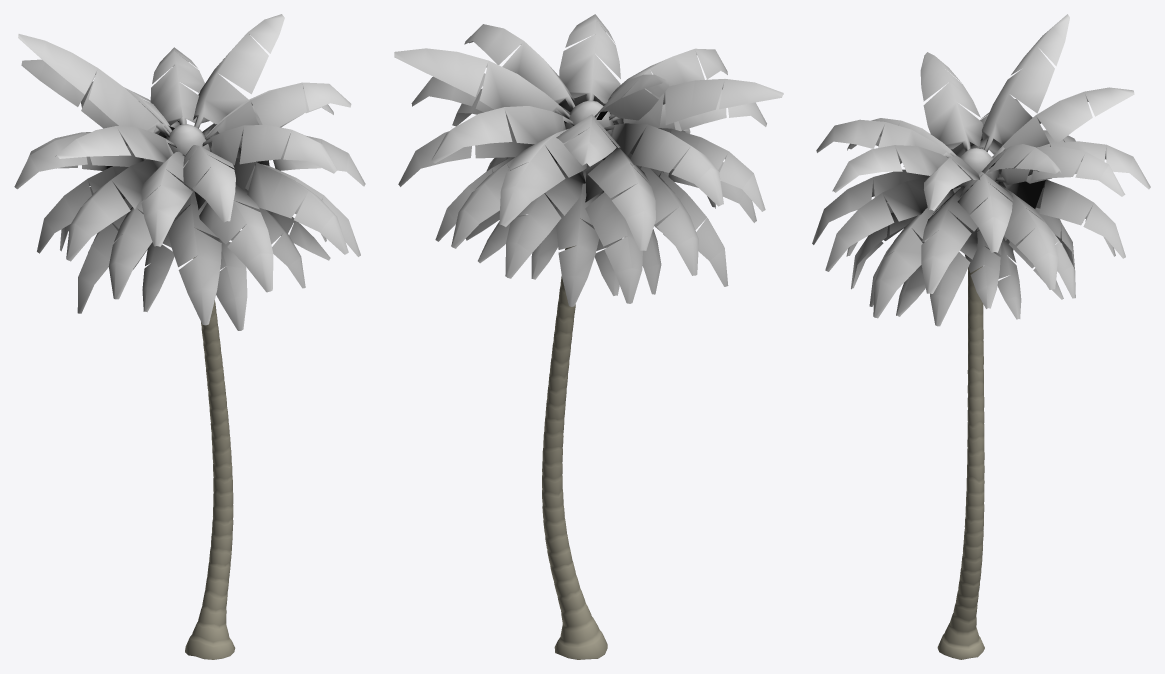
The model's file is ballpit_palmtree_f.fbx.
3 views of the same model, side by side, from view 1: azimuth 30°, elevation 25°; view 2: azimuth 150°, elevation 25°; view 3: azimuth 270°, elevation 25° (orthographic). The views are drawn at different scales.
Parts seen in each view (by area): view 1: Palm Tree F; view 2: Palm Tree F; view 3: Palm Tree F.
Part boxes in pixels (x1,y1,x2,y2): Palm Tree F: [14, 14, 365, 659]; Palm Tree F: [394, 14, 783, 659]; Palm Tree F: [812, 14, 1150, 659].
Size of the model in its own units: 9.46 by 17.59 by 9.42.
